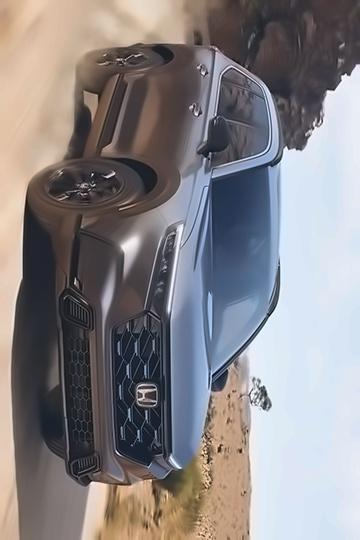Car hood: (163, 182, 218, 473)
Driver-s door - -F-R-: (94, 100, 270, 160)
Fender - -F-R-: (105, 155, 218, 227), (137, 46, 224, 64)
Front bumper: (46, 207, 165, 492)
Headlight - -L-: (146, 444, 188, 480)
Headlight - -R-: (141, 214, 189, 328)
Passenger-s door - -R-R-: (112, 62, 273, 122)
Side bumper - -R-: (79, 65, 128, 164)
Side mirror - -L-: (201, 362, 238, 397)
Side mirror - -R-: (194, 111, 235, 158)
